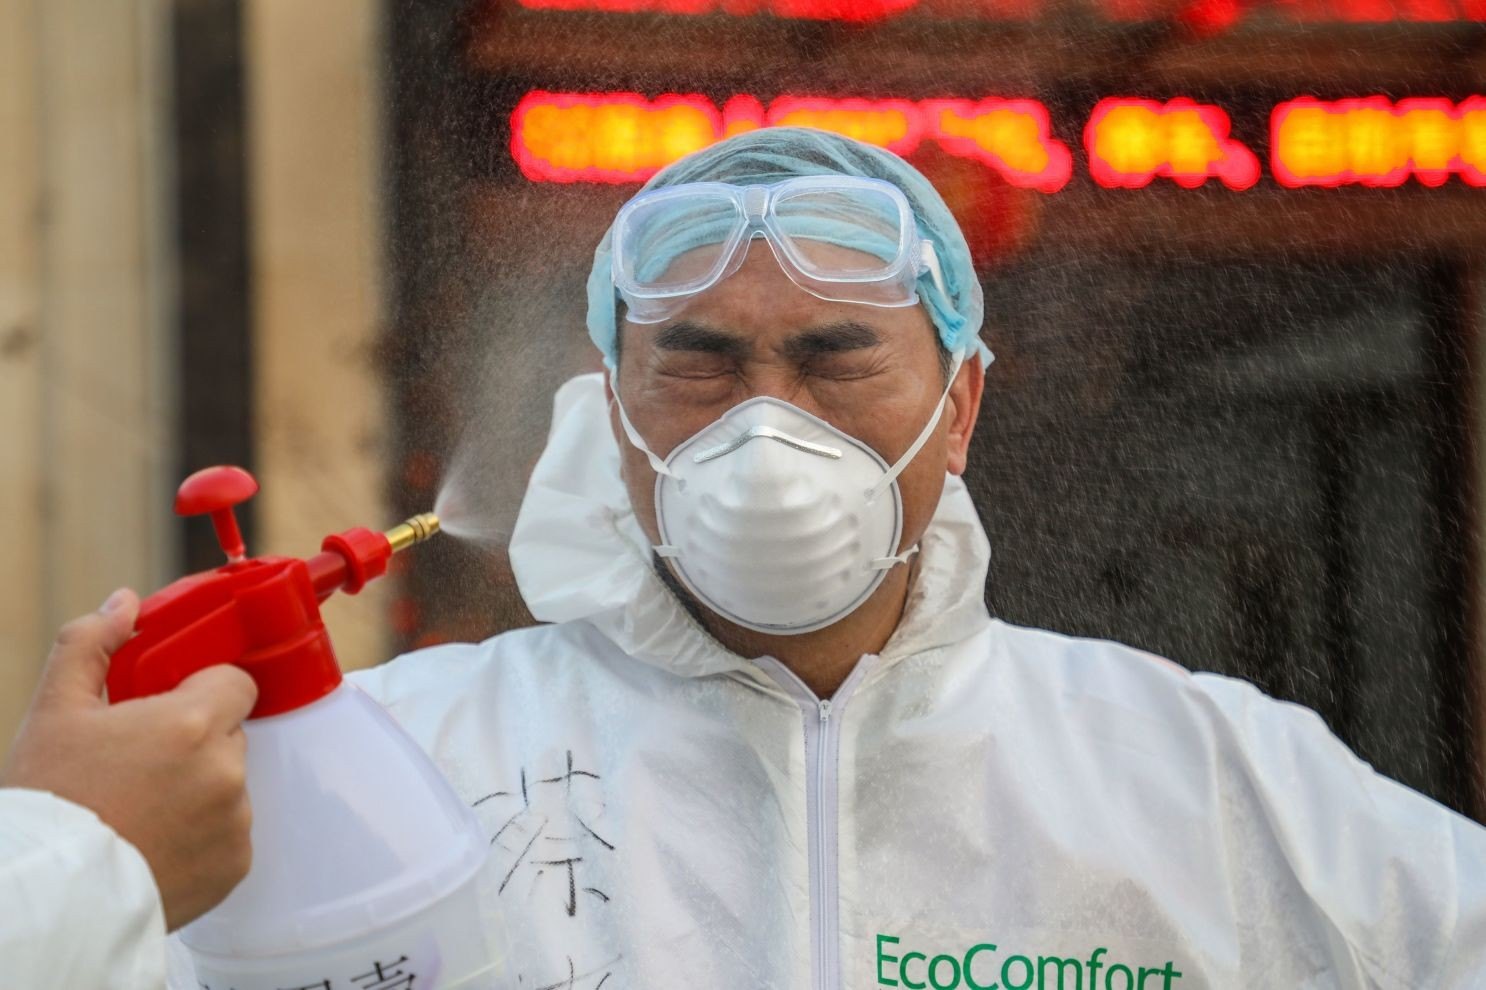Goggles: (597, 169, 930, 303)
with_mask: (625, 335, 928, 637)
